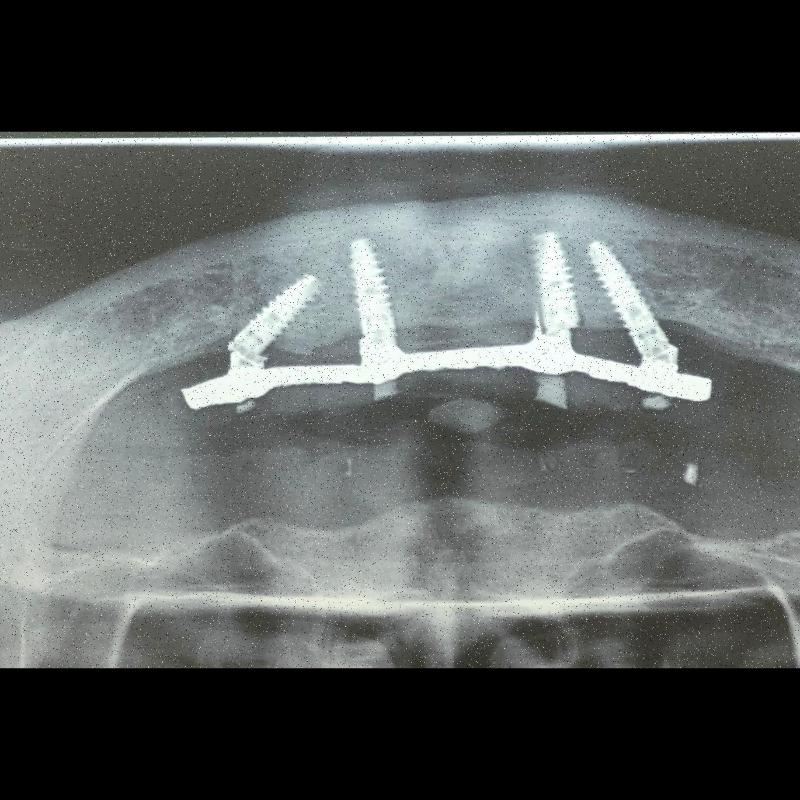MIS: (585, 238, 677, 358), (232, 258, 324, 362), (526, 226, 584, 332), (346, 232, 396, 338)
